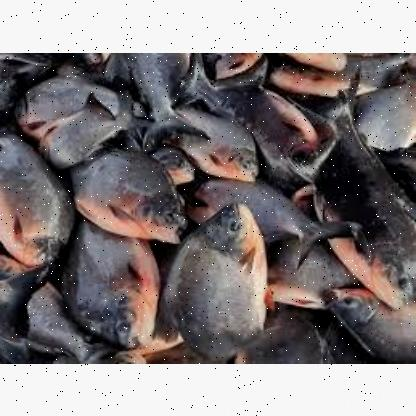ikan-pacu: (318, 121, 416, 307), (167, 203, 264, 362), (60, 220, 157, 350), (75, 150, 185, 244), (0, 135, 72, 269), (172, 105, 262, 178)
